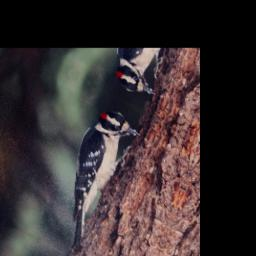Woodpecker: (44, 96, 145, 256)
